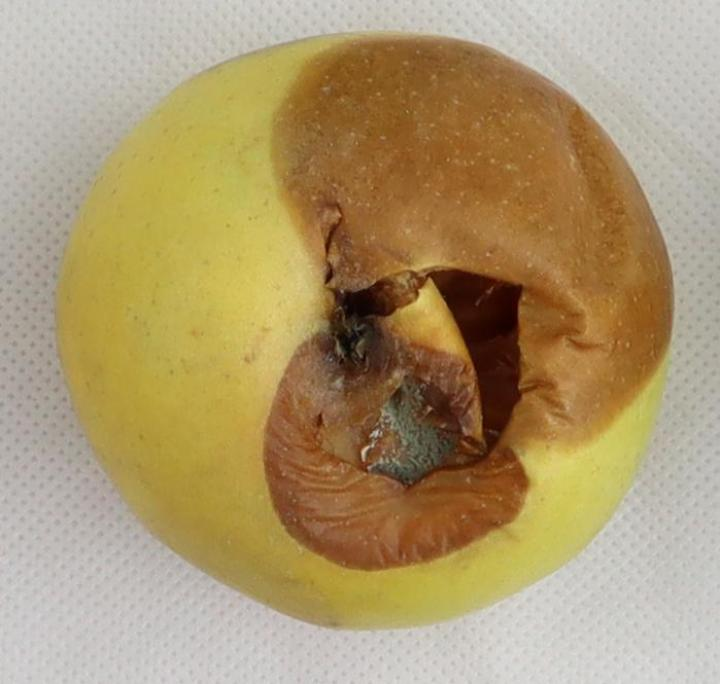apple: (57, 34, 672, 627)
rot_mold_decay: (265, 38, 671, 570)
